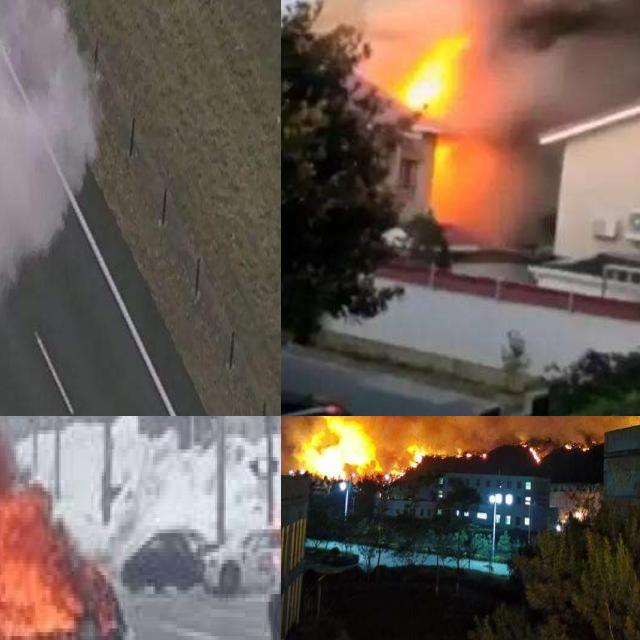fire: (0, 430, 134, 640), (399, 38, 485, 213), (295, 416, 393, 483)
smoke: (0, 0, 101, 384), (485, 0, 640, 242), (281, 416, 640, 468), (309, 0, 482, 37)
